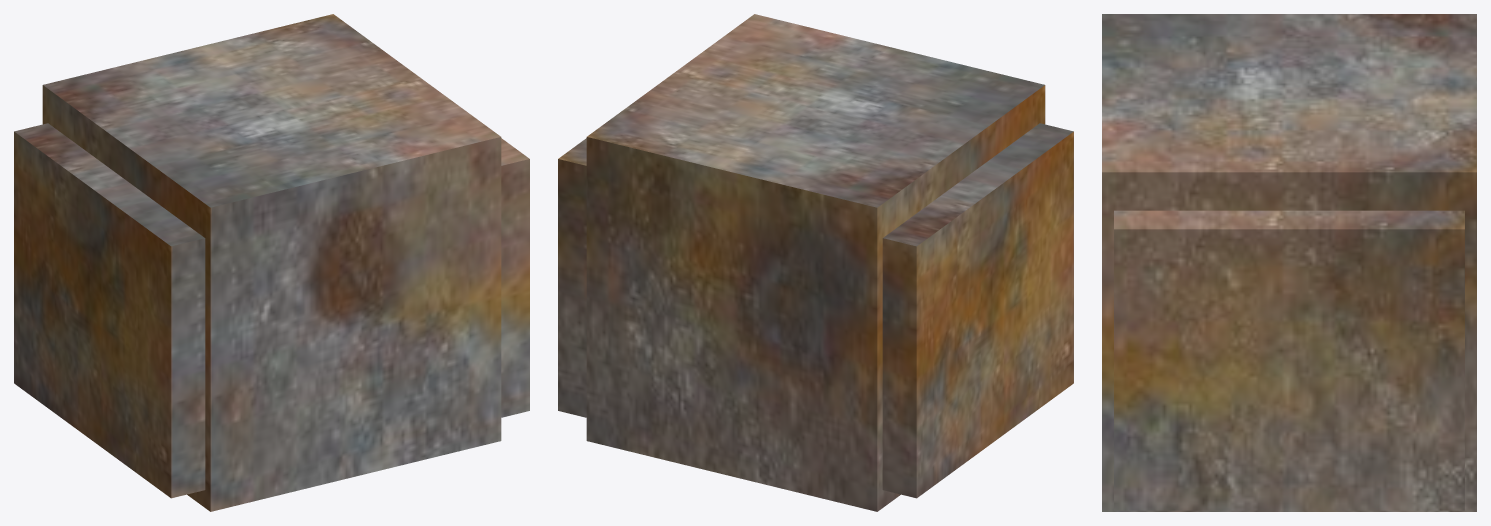
File: Elevator0.dae
3 renders of one model, left to right at view 1: azimuth 30°, elevation 25°; view 2: azimuth 150°, elevation 25°; view 3: azimuth 270°, elevation 25°, orthographic. The views are drawn at different scales.
Visible parts, largest first — view 1: Cube, Cube.001; view 2: Cube, Cube.001; view 3: Cube.001, Cube.
Part boxes in pixels (box(x1,y1,x2,y2)): Cube: box(42, 14, 501, 511); Cube.001: box(14, 123, 529, 498); Cube: box(586, 14, 1045, 511); Cube.001: box(558, 123, 1073, 498); Cube.001: box(1114, 210, 1464, 510); Cube: box(1102, 14, 1476, 511).
Bounding box in the file's own units: 47.26 × 38.29 × 38.29.
Materials: 1 (1 with a texture image).
